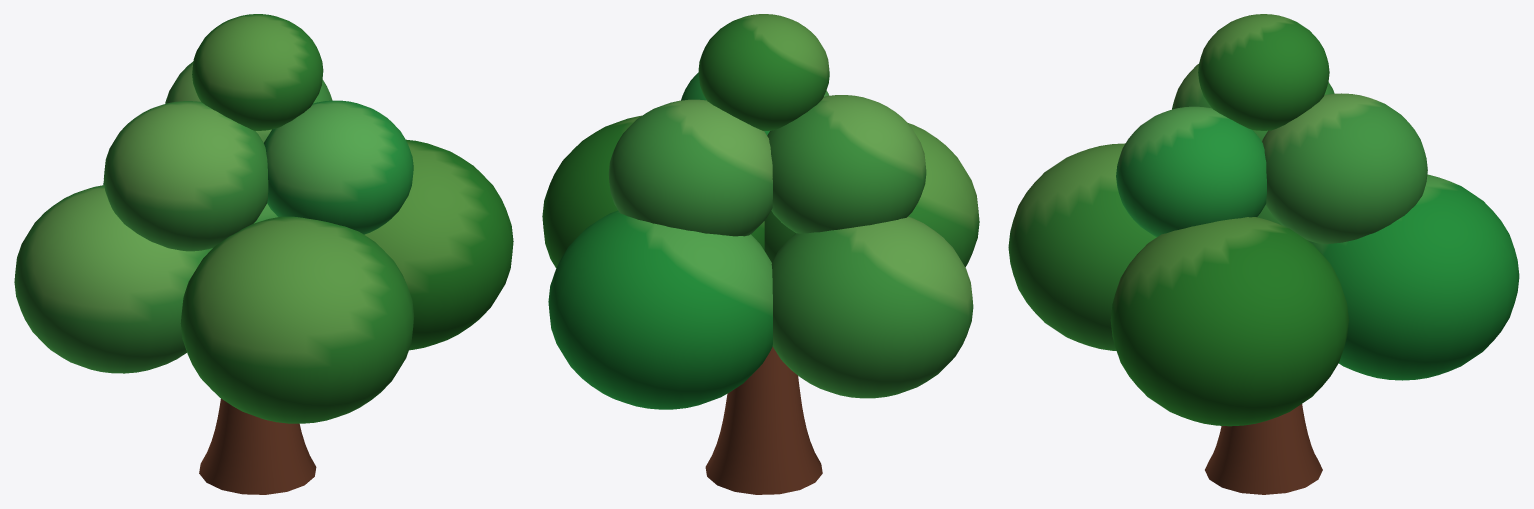
File: pine-tree-3.obj
3 views of the same model, side by side, from view 1: azimuth 30°, elevation 25°; view 2: azimuth 150°, elevation 25°; view 3: azimuth 270°, elevation 25° (orthographic).
Visible parts, largest first — view 1: tree; view 2: tree; view 3: tree.
Part boxes in pixels (box(x1,y1,x2,y2)): tree: box(14, 14, 513, 494); tree: box(542, 14, 979, 494); tree: box(1008, 14, 1519, 494).
Size of the model in its own units: 243 by 240 by 247.
